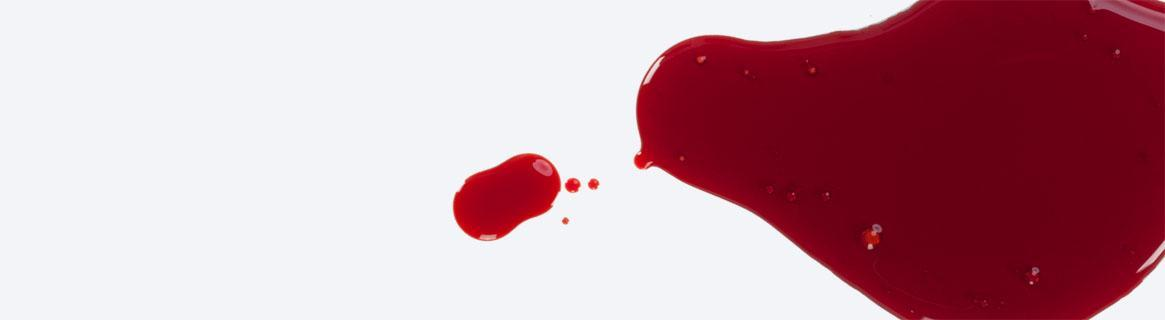Fire: (634, 0, 1163, 319), (452, 152, 561, 241), (565, 177, 581, 193), (587, 177, 600, 190)
